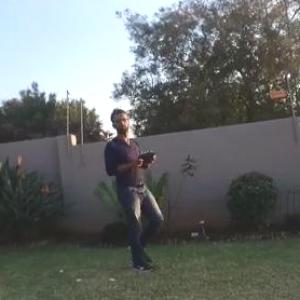follow: (98, 105, 167, 278)
